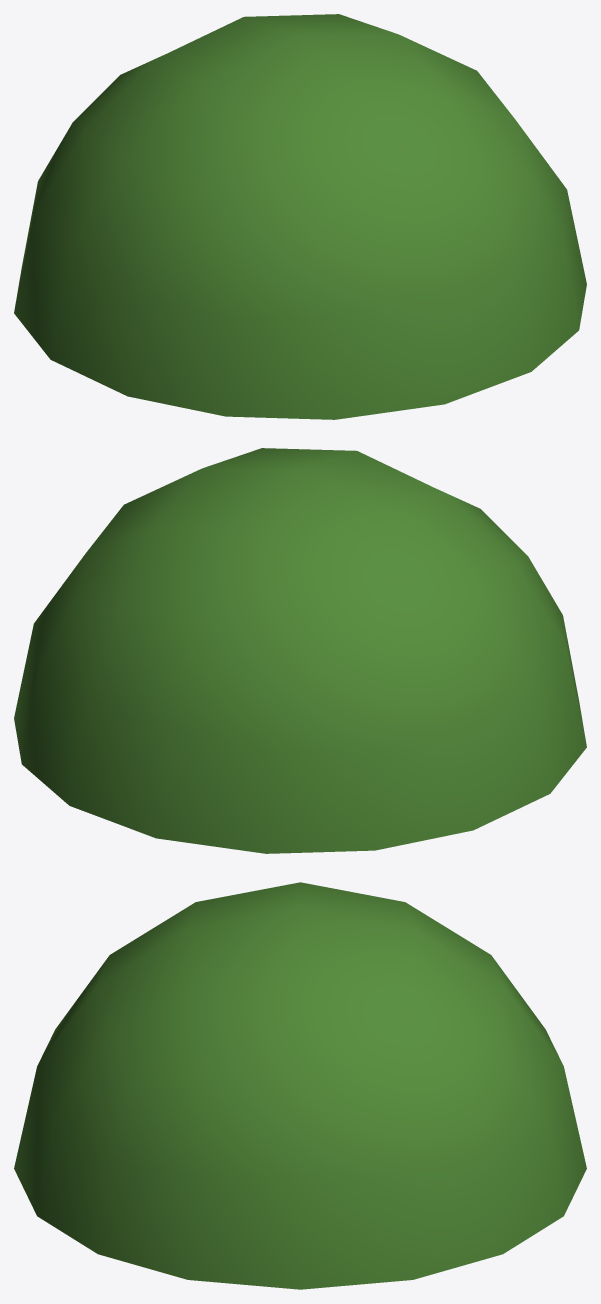
File: Hemisphere_01.fbx
3 renders of one model, top to bottom at view 1: azimuth 30°, elevation 25°; view 2: azimuth 150°, elevation 25°; view 3: azimuth 270°, elevation 25°, orthographic.
Parts seen in each view (by area): view 1: Box010; view 2: Box010; view 3: Box010.
Boxes of the visible parts, <box> form: Box010: <box>14,14,586,419</box>; Box010: <box>14,448,586,853</box>; Box010: <box>14,882,586,1289</box>.
Size of the model in its own units: 65.64 by 32.82 by 65.64.
